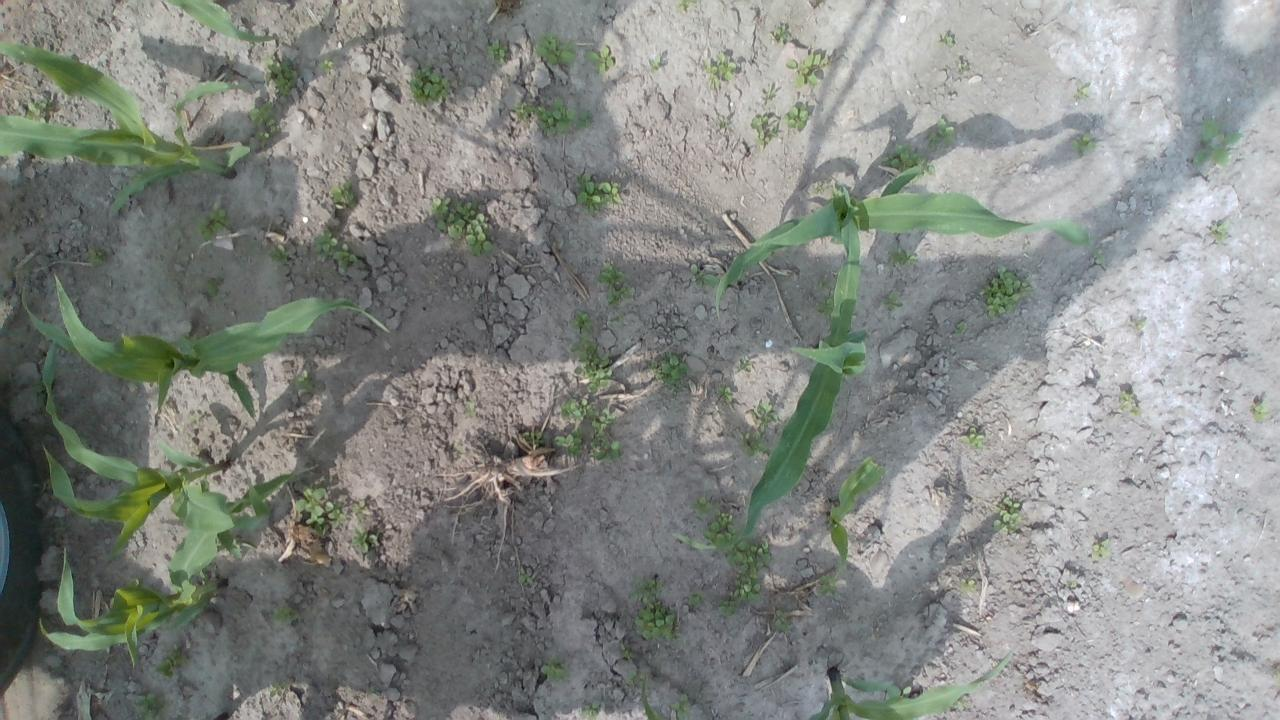Maize: (673, 190, 868, 555), (716, 167, 1103, 317), (39, 465, 323, 668), (20, 272, 390, 422), (0, 38, 252, 220), (39, 337, 228, 561), (640, 650, 1010, 720), (829, 455, 881, 581), (160, 0, 272, 44)
Weeds: (717, 538, 774, 616), (628, 576, 688, 646), (430, 195, 496, 258), (568, 310, 613, 394), (976, 266, 1032, 318), (295, 485, 343, 534), (1192, 119, 1242, 165), (570, 172, 622, 216), (880, 143, 936, 183), (312, 228, 358, 274), (648, 351, 693, 395), (588, 409, 624, 464), (406, 65, 451, 107), (596, 260, 634, 306), (534, 97, 576, 136), (784, 53, 829, 89), (262, 56, 300, 97), (704, 508, 738, 552), (194, 202, 230, 243), (248, 101, 282, 144), (535, 32, 577, 65), (155, 644, 190, 680), (702, 53, 736, 90), (132, 691, 172, 720), (991, 496, 1022, 533), (552, 426, 587, 458), (750, 114, 780, 150), (927, 116, 957, 150), (558, 397, 599, 421), (736, 430, 770, 457), (750, 401, 780, 431), (540, 655, 572, 683), (585, 45, 614, 74), (329, 180, 357, 209), (349, 524, 377, 552), (886, 246, 918, 269), (690, 263, 720, 287), (781, 106, 808, 132), (25, 99, 53, 124), (958, 426, 986, 450), (484, 40, 509, 66), (1068, 132, 1095, 156), (292, 369, 316, 392), (670, 694, 691, 720), (1119, 390, 1140, 416), (817, 573, 839, 597), (272, 605, 298, 624), (1210, 218, 1230, 241), (774, 608, 791, 634), (692, 494, 713, 515), (1253, 398, 1270, 423), (267, 244, 288, 264), (769, 24, 790, 44), (1090, 538, 1110, 559), (512, 100, 532, 120), (580, 700, 600, 720), (814, 294, 833, 315), (886, 684, 912, 699), (576, 111, 594, 132), (881, 292, 902, 310), (522, 431, 544, 448), (204, 278, 222, 298), (86, 248, 105, 266), (33, 379, 46, 404), (626, 669, 645, 686), (268, 681, 289, 696), (318, 54, 335, 72), (351, 501, 367, 520), (1074, 81, 1090, 100), (687, 591, 704, 608), (619, 642, 634, 660), (716, 387, 734, 402), (738, 356, 754, 371), (650, 55, 664, 72), (518, 567, 532, 584), (959, 578, 975, 592), (762, 86, 776, 102), (940, 33, 954, 48), (678, 0, 698, 10), (611, 312, 626, 325), (813, 182, 828, 195), (954, 321, 969, 334), (125, 576, 142, 587), (817, 277, 831, 290), (368, 684, 378, 697), (1134, 320, 1146, 330), (716, 118, 729, 127), (952, 700, 966, 708), (958, 61, 968, 71), (1069, 581, 1077, 588)
